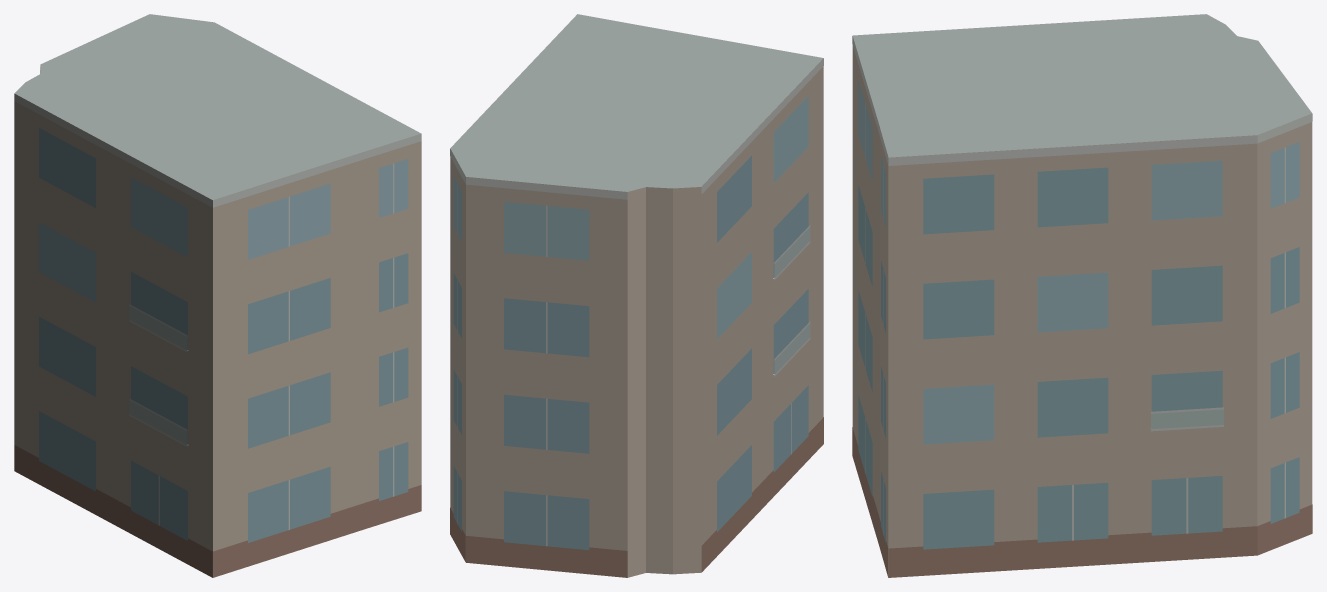
The model's file is residential-143e1081-de92-42e3-b1cd-b93c7d8b8bab.glb.
The picture shows the model from 3 angles, left to right: view 1: azimuth 30°, elevation 25°; view 2: azimuth 150°, elevation 25°; view 3: azimuth 270°, elevation 25°; orthographic projection. The views are drawn at different scales.
Parts seen in each view (by area): view 1: residential-143e1081-de92-42e3-b1cd-b93c7d8b8bab.tmp; view 2: residential-143e1081-de92-42e3-b1cd-b93c7d8b8bab.tmp; view 3: residential-143e1081-de92-42e3-b1cd-b93c7d8b8bab.tmp.
Part boxes in pixels (box(x1,y1,x2,y2)): residential-143e1081-de92-42e3-b1cd-b93c7d8b8bab.tmp: box(14, 14, 421, 577); residential-143e1081-de92-42e3-b1cd-b93c7d8b8bab.tmp: box(450, 14, 823, 577); residential-143e1081-de92-42e3-b1cd-b93c7d8b8bab.tmp: box(852, 14, 1312, 577).
Size of the model in its own units: 8.95 by 12.2 by 12.11.
